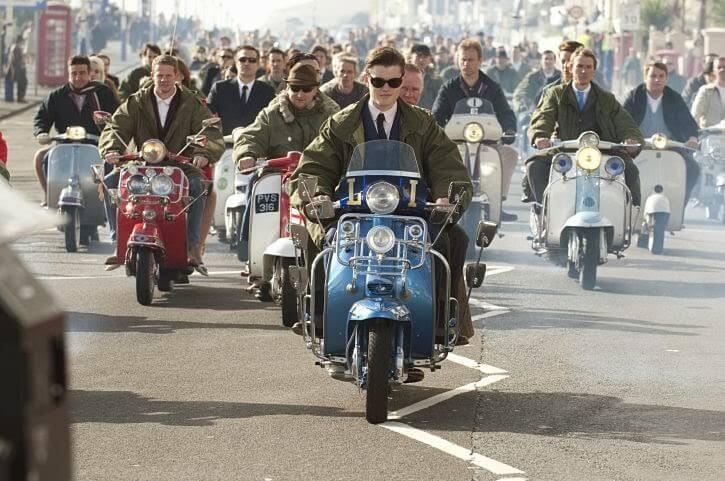nohelmet: (365, 48, 406, 109), (287, 62, 321, 110), (566, 48, 599, 88), (456, 41, 484, 79), (642, 58, 670, 95), (150, 56, 177, 94), (66, 54, 91, 92), (233, 44, 260, 79), (336, 57, 358, 90), (411, 43, 433, 71), (268, 48, 285, 76), (541, 48, 557, 71)
